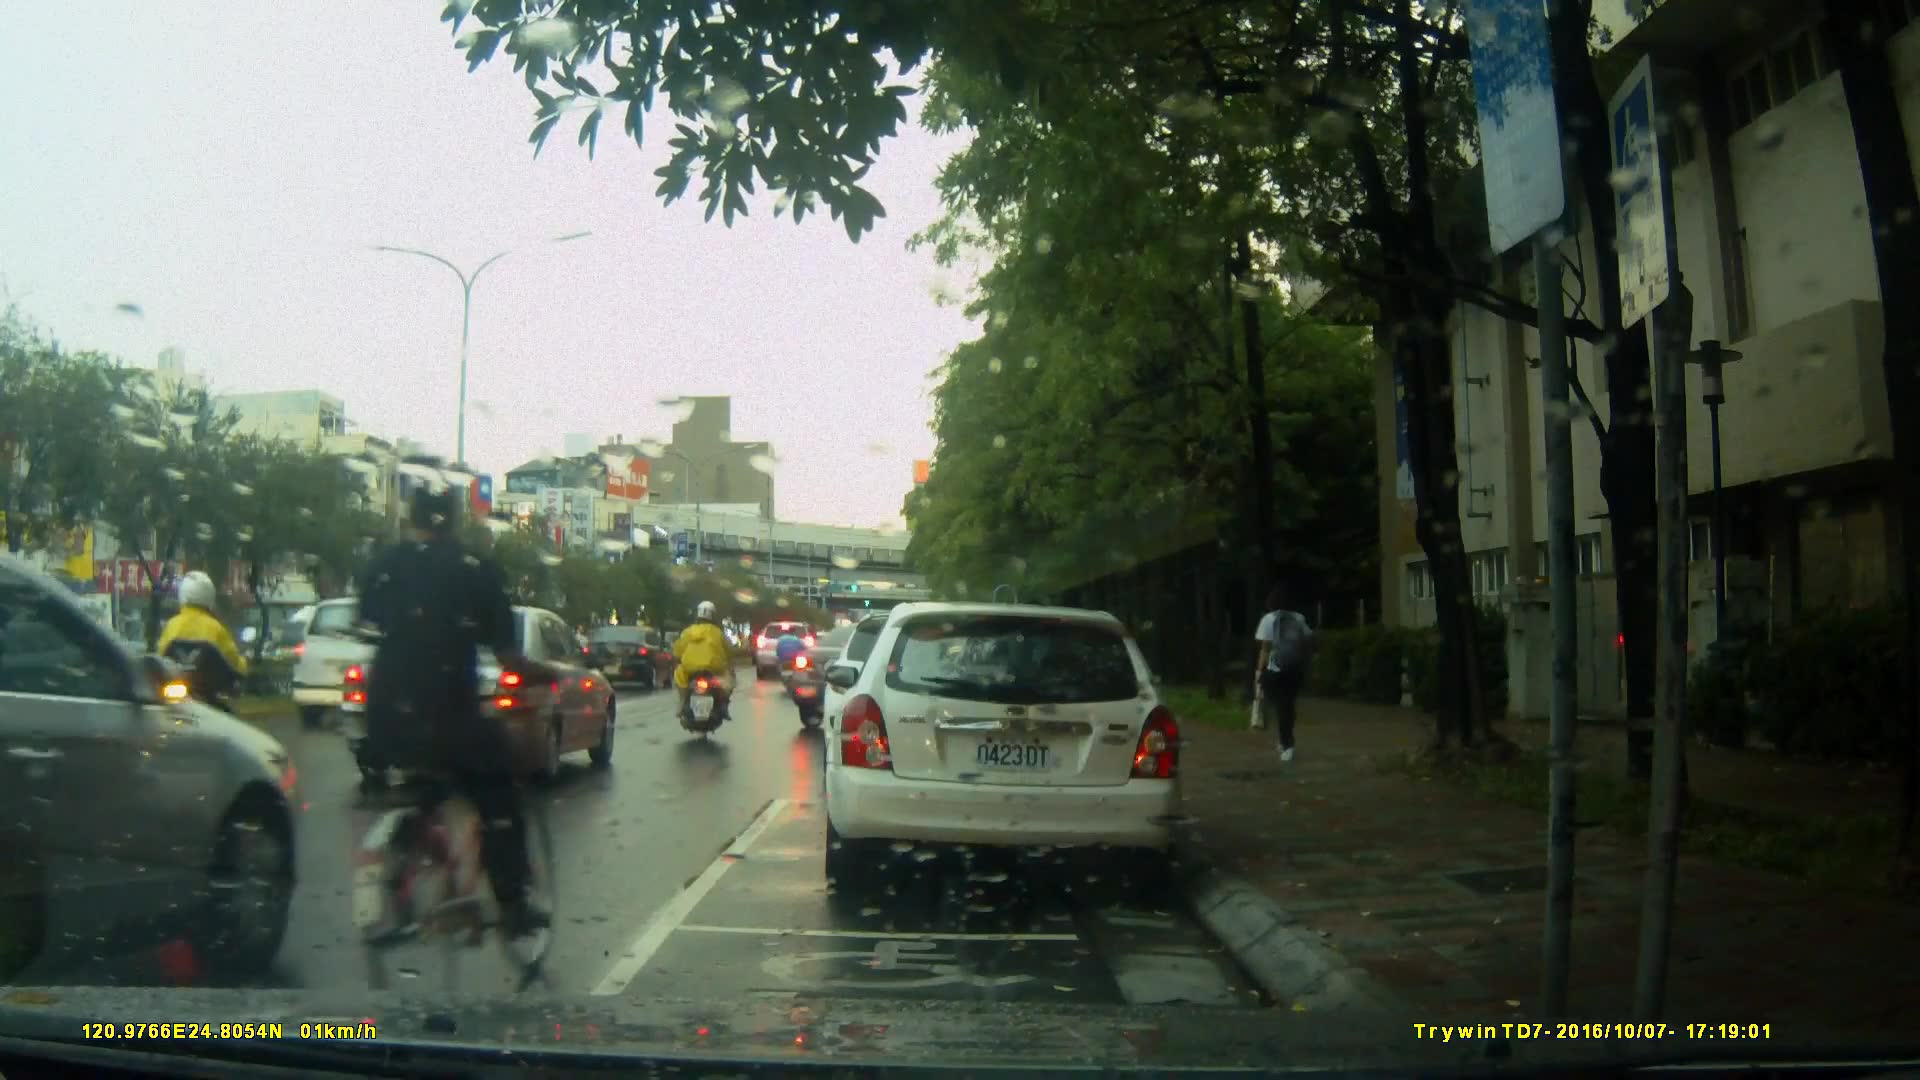pedestrian: (1256, 575, 1321, 764)
rider: (317, 465, 564, 1010), (153, 578, 270, 818), (673, 595, 738, 751), (676, 613, 712, 705), (777, 620, 807, 703)
vehicle: (1, 537, 326, 987), (820, 602, 1188, 898), (343, 601, 629, 783), (289, 596, 494, 730), (788, 621, 1003, 735), (577, 624, 680, 692)
